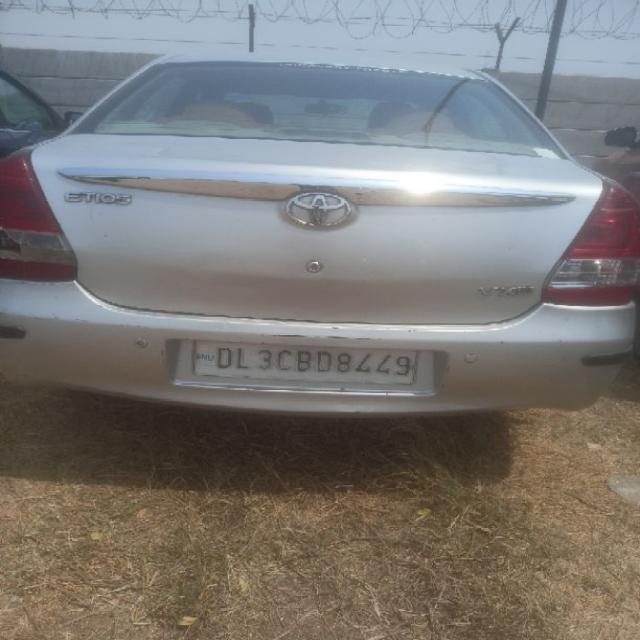license_plate: (172, 337, 442, 394)
